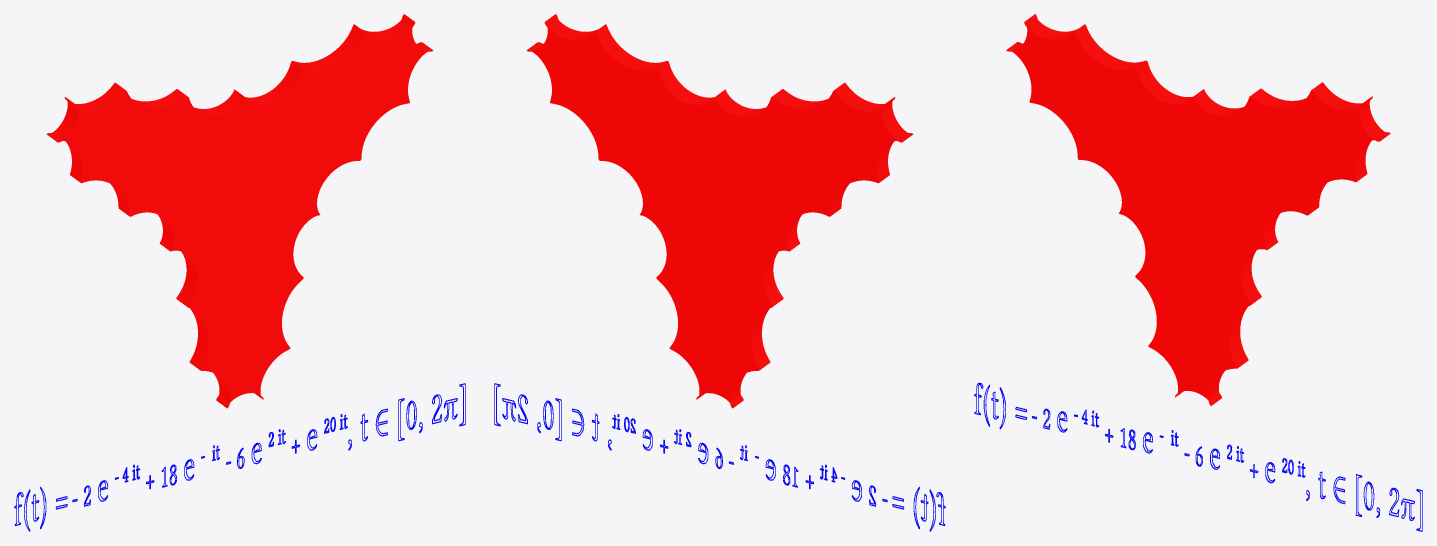
File: Just.glb
3 views of the same model, side by side, from view 1: azimuth 30°, elevation 25°; view 2: azimuth 150°, elevation 25°; view 3: azimuth 330°, elevation 25° (orthographic).
Bounding box in the file's own units: 1.2 × 1.08 × 0.05.
